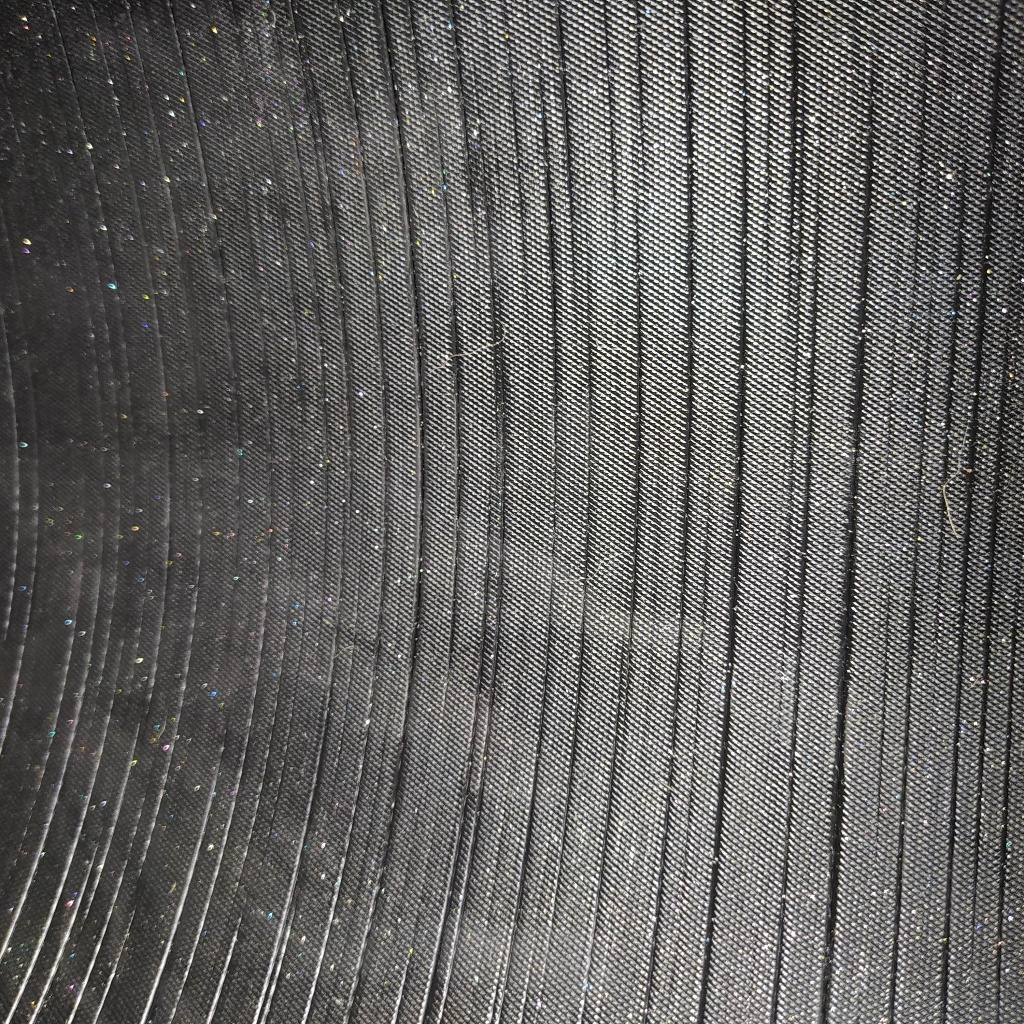friso grande: (831, 505, 858, 747), (821, 741, 848, 950), (782, 87, 802, 321), (568, 547, 592, 725), (848, 256, 875, 407), (986, 1, 1009, 173), (862, 52, 879, 260), (340, 319, 357, 527), (974, 173, 997, 325), (447, 428, 467, 598), (993, 824, 1010, 1022), (938, 844, 957, 1021), (678, 3, 697, 177), (901, 592, 918, 782), (690, 901, 717, 1020), (483, 247, 508, 375), (679, 175, 698, 336), (111, 425, 128, 604), (556, 721, 580, 846), (709, 764, 730, 904), (910, 422, 927, 593), (412, 407, 430, 565), (162, 349, 175, 566), (605, 689, 626, 820), (589, 821, 611, 946), (783, 432, 800, 592), (672, 515, 691, 658), (840, 405, 866, 508), (923, 247, 938, 422), (663, 651, 688, 755), (375, 482, 390, 655), (630, 157, 650, 286), (21, 529, 40, 663), (446, 271, 462, 428), (657, 754, 679, 865), (578, 416, 596, 551), (365, 199, 384, 326), (544, 845, 568, 944), (351, 94, 372, 207), (582, 260, 597, 416), (766, 917, 788, 1023), (977, 619, 995, 748), (999, 703, 1018, 825), (543, 164, 563, 279), (378, 323, 392, 486), (85, 194, 109, 287), (71, 509, 89, 631), (120, 268, 134, 423), (787, 322, 806, 436), (963, 432, 984, 535), (887, 887, 903, 1020), (524, 734, 543, 846), (778, 796, 795, 920), (636, 940, 661, 1024), (4, 520, 23, 630), (970, 746, 988, 862), (136, 547, 154, 662), (722, 636, 738, 765), (948, 701, 962, 848), (786, 678, 803, 799), (0, 300, 19, 408), (617, 600, 639, 691), (338, 3, 359, 98), (486, 938, 510, 1021), (795, 466, 813, 574), (219, 580, 238, 682), (675, 432, 697, 520), (95, 504, 111, 624), (793, 575, 811, 681), (810, 212, 825, 339), (562, 165, 577, 292), (966, 856, 982, 975), (452, 23, 469, 135), (646, 863, 670, 942), (871, 727, 886, 853), (805, 335, 819, 469), (169, 175, 187, 279), (492, 373, 509, 483), (309, 712, 329, 805), (538, 58, 555, 167), (397, 204, 422, 278), (257, 552, 271, 684), (953, 167, 969, 282), (627, 485, 643, 600), (460, 714, 483, 794), (558, 43, 573, 165), (734, 312, 750, 426), (730, 424, 747, 531), (291, 805, 313, 887), (409, 315, 428, 409), (879, 592, 892, 729), (990, 416, 1009, 509), (725, 527, 740, 643), (444, 594, 461, 696), (462, 132, 478, 240), (573, 938, 594, 1020), (311, 550, 327, 657), (307, 93, 332, 161), (515, 947, 537, 1024), (440, 169, 456, 274), (325, 608, 341, 713), (476, 183, 501, 250), (182, 272, 201, 360), (549, 277, 561, 415), (240, 683, 259, 770), (948, 279, 963, 389), (970, 330, 986, 433), (6, 76, 26, 158), (787, 1, 805, 92), (538, 621, 552, 738), (102, 194, 123, 272), (90, 286, 104, 403), (936, 475, 951, 584), (632, 287, 644, 422), (954, 597, 969, 702), (738, 203, 752, 315), (318, 347, 333, 451), (511, 844, 527, 941), (334, 523, 352, 609), (230, 345, 247, 436), (495, 557, 510, 659), (892, 782, 906, 890), (477, 568, 495, 652), (79, 624, 99, 698), (58, 630, 76, 712), (341, 960, 366, 1019), (550, 493, 561, 627), (172, 952, 194, 1019), (816, 950, 837, 1020), (683, 334, 698, 432), (599, 0, 614, 98), (82, 111, 101, 188), (451, 787, 468, 873), (3, 658, 23, 731), (483, 651, 499, 742), (63, 43, 84, 112), (281, 66, 299, 146), (265, 432, 277, 552), (4, 209, 21, 293), (369, 1, 394, 58), (396, 943, 414, 1022), (422, 945, 441, 1018), (738, 102, 752, 201), (372, 827, 393, 893), (548, 413, 564, 499), (984, 504, 1002, 580), (401, 636, 422, 701), (997, 336, 1014, 416), (479, 486, 495, 571), (358, 893, 378, 961), (496, 481, 513, 560), (169, 7, 189, 74), (210, 735, 230, 802), (219, 264, 235, 347), (461, 826, 477, 908), (410, 35, 426, 117), (476, 117, 495, 186), (243, 198, 260, 274), (318, 203, 345, 250), (33, 409, 43, 535), (274, 620, 293, 686), (278, 881, 298, 943), (474, 741, 488, 829), (13, 408, 24, 520), (377, 56, 406, 98), (254, 268, 268, 355), (153, 104, 169, 180), (396, 699, 414, 766), (303, 215, 321, 282), (738, 3, 750, 103), (536, 931, 552, 1006), (387, 96, 408, 153), (393, 151, 414, 208), (940, 392, 954, 477), (438, 867, 453, 946), (294, 612, 308, 696), (67, 693, 84, 762), (363, 651, 378, 729), (112, 631, 129, 699), (608, 99, 618, 214), (321, 448, 332, 552), (295, 146, 310, 222), (302, 959, 320, 1022), (332, 847, 350, 910), (382, 767, 401, 826), (435, 961, 453, 1023), (208, 208, 228, 263), (42, 710, 60, 771), (152, 610, 169, 674), (1007, 601, 1017, 709), (957, 532, 971, 609), (449, 901, 464, 972), (182, 616, 197, 687), (406, 276, 426, 329), (298, 43, 319, 93), (28, 919, 46, 977), (468, 58, 484, 123), (84, 745, 104, 797), (333, 247, 347, 321), (311, 274, 325, 348), (233, 430, 247, 504), (270, 3, 285, 72), (226, 768, 241, 837), (70, 885, 93, 930), (635, 57, 645, 159), (137, 215, 154, 275), (99, 693, 116, 753), (230, 504, 243, 582), (287, 260, 303, 323), (290, 321, 306, 384), (262, 350, 274, 434), (353, 729, 368, 796), (931, 582, 942, 673), (194, 357, 204, 457), (199, 145, 215, 207), (248, 788, 265, 846), (151, 273, 165, 343), (3, 898, 23, 946), (408, 893, 425, 948), (285, 529, 295, 622), (267, 770, 280, 841), (141, 671, 159, 722), (219, 889, 238, 937), (156, 929, 175, 977), (195, 535, 205, 626), (315, 162, 337, 203), (412, 564, 424, 639), (210, 836, 225, 896), (23, 774, 43, 819), (19, 860, 42, 899), (90, 841, 109, 888), (283, 695, 294, 776), (185, 80, 199, 143), (549, 0, 568, 46), (205, 972, 224, 1018), (317, 909, 333, 963), (141, 54, 156, 111), (247, 4, 264, 54), (134, 833, 151, 883), (260, 102, 274, 162), (278, 213, 295, 262), (634, 416, 646, 485), (172, 683, 187, 738), (286, 4, 307, 43), (187, 839, 203, 890), (145, 972, 163, 1017), (197, 796, 215, 841), (432, 108, 444, 175), (47, 3, 67, 43), (9, 971, 26, 1018), (52, 762, 68, 811), (256, 982, 283, 1011), (199, 451, 208, 538), (633, 0, 646, 60), (264, 938, 284, 977), (270, 164, 285, 215), (12, 817, 27, 867), (347, 791, 360, 847), (40, 807, 54, 859), (171, 890, 187, 935), (238, 843, 252, 894), (161, 736, 173, 795), (72, 793, 86, 843), (128, 883, 144, 926), (405, 0, 422, 40), (119, 759, 134, 804), (268, 686, 282, 734), (194, 894, 206, 950), (128, 164, 141, 215), (472, 653, 482, 718), (225, 935, 242, 973), (98, 970, 113, 1013), (46, 879, 61, 922), (130, 9, 143, 58), (262, 730, 274, 782), (151, 790, 164, 838), (258, 58, 272, 102), (159, 566, 173, 610), (117, 925, 131, 968), (33, 986, 50, 1021), (61, 840, 74, 885), (56, 929, 73, 963), (984, 578, 997, 621), (102, 48, 115, 89), (109, 800, 120, 846), (131, 719, 143, 761), (120, 118, 131, 161), (47, 962, 60, 997), (90, 5, 102, 39), (111, 87, 123, 117)
friso pequeno: (768, 582, 790, 759), (913, 93, 931, 218), (907, 212, 922, 344), (913, 27, 932, 96)
